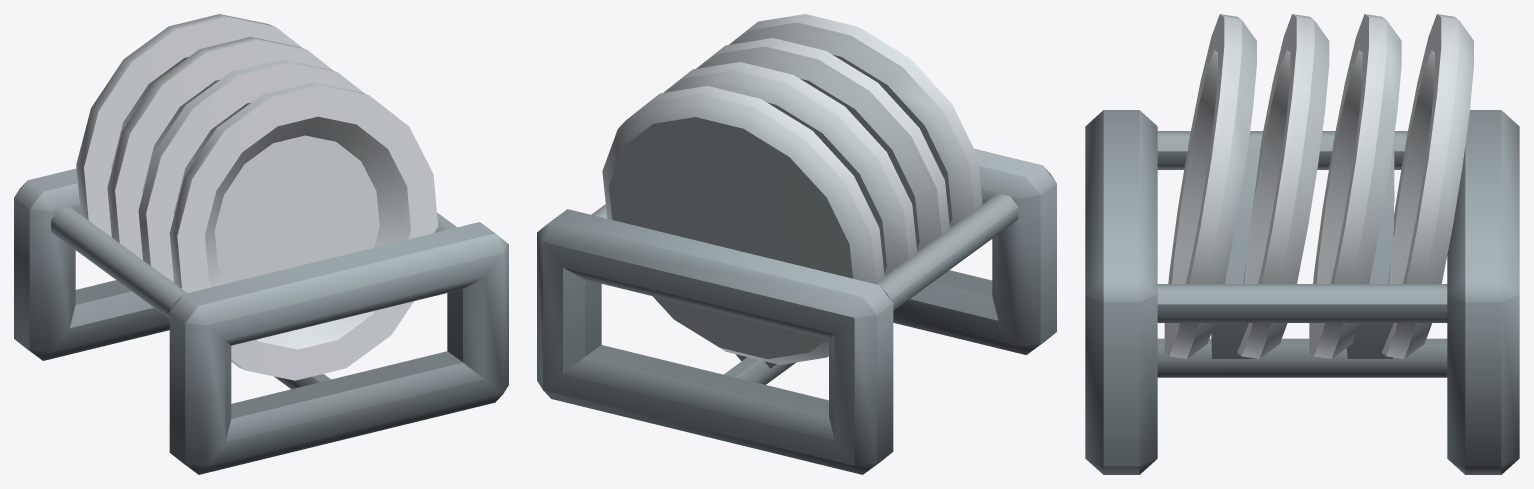
Rendered from kkr.dishrack_plates.glb.
3 views of the same model, side by side, from view 1: azimuth 30°, elevation 25°; view 2: azimuth 150°, elevation 25°; view 3: azimuth 270°, elevation 25° (orthographic). The views are drawn at different scales.
Parts seen in each view (by area): view 1: dishrack_plates; view 2: dishrack_plates; view 3: dishrack_plates.
Part boxes in pixels (x1,y1,x2,y2): dishrack_plates: (14, 14, 508, 474); dishrack_plates: (537, 14, 1056, 474); dishrack_plates: (1085, 14, 1519, 474).
Size of the model in its own units: 0.3308 by 0.3019 by 0.3308.
1 material, 1 textured.
